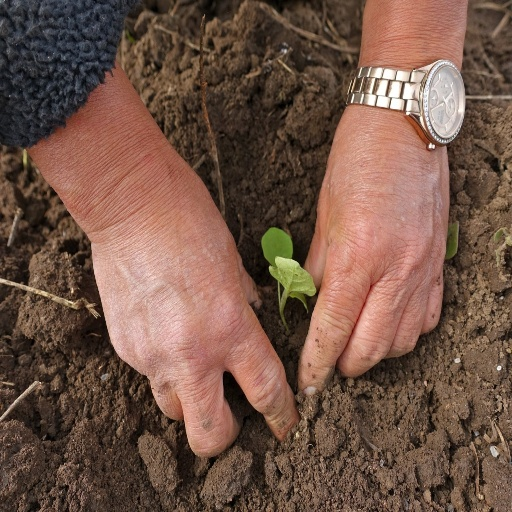hand: (274, 32, 467, 428), (87, 152, 302, 462)
